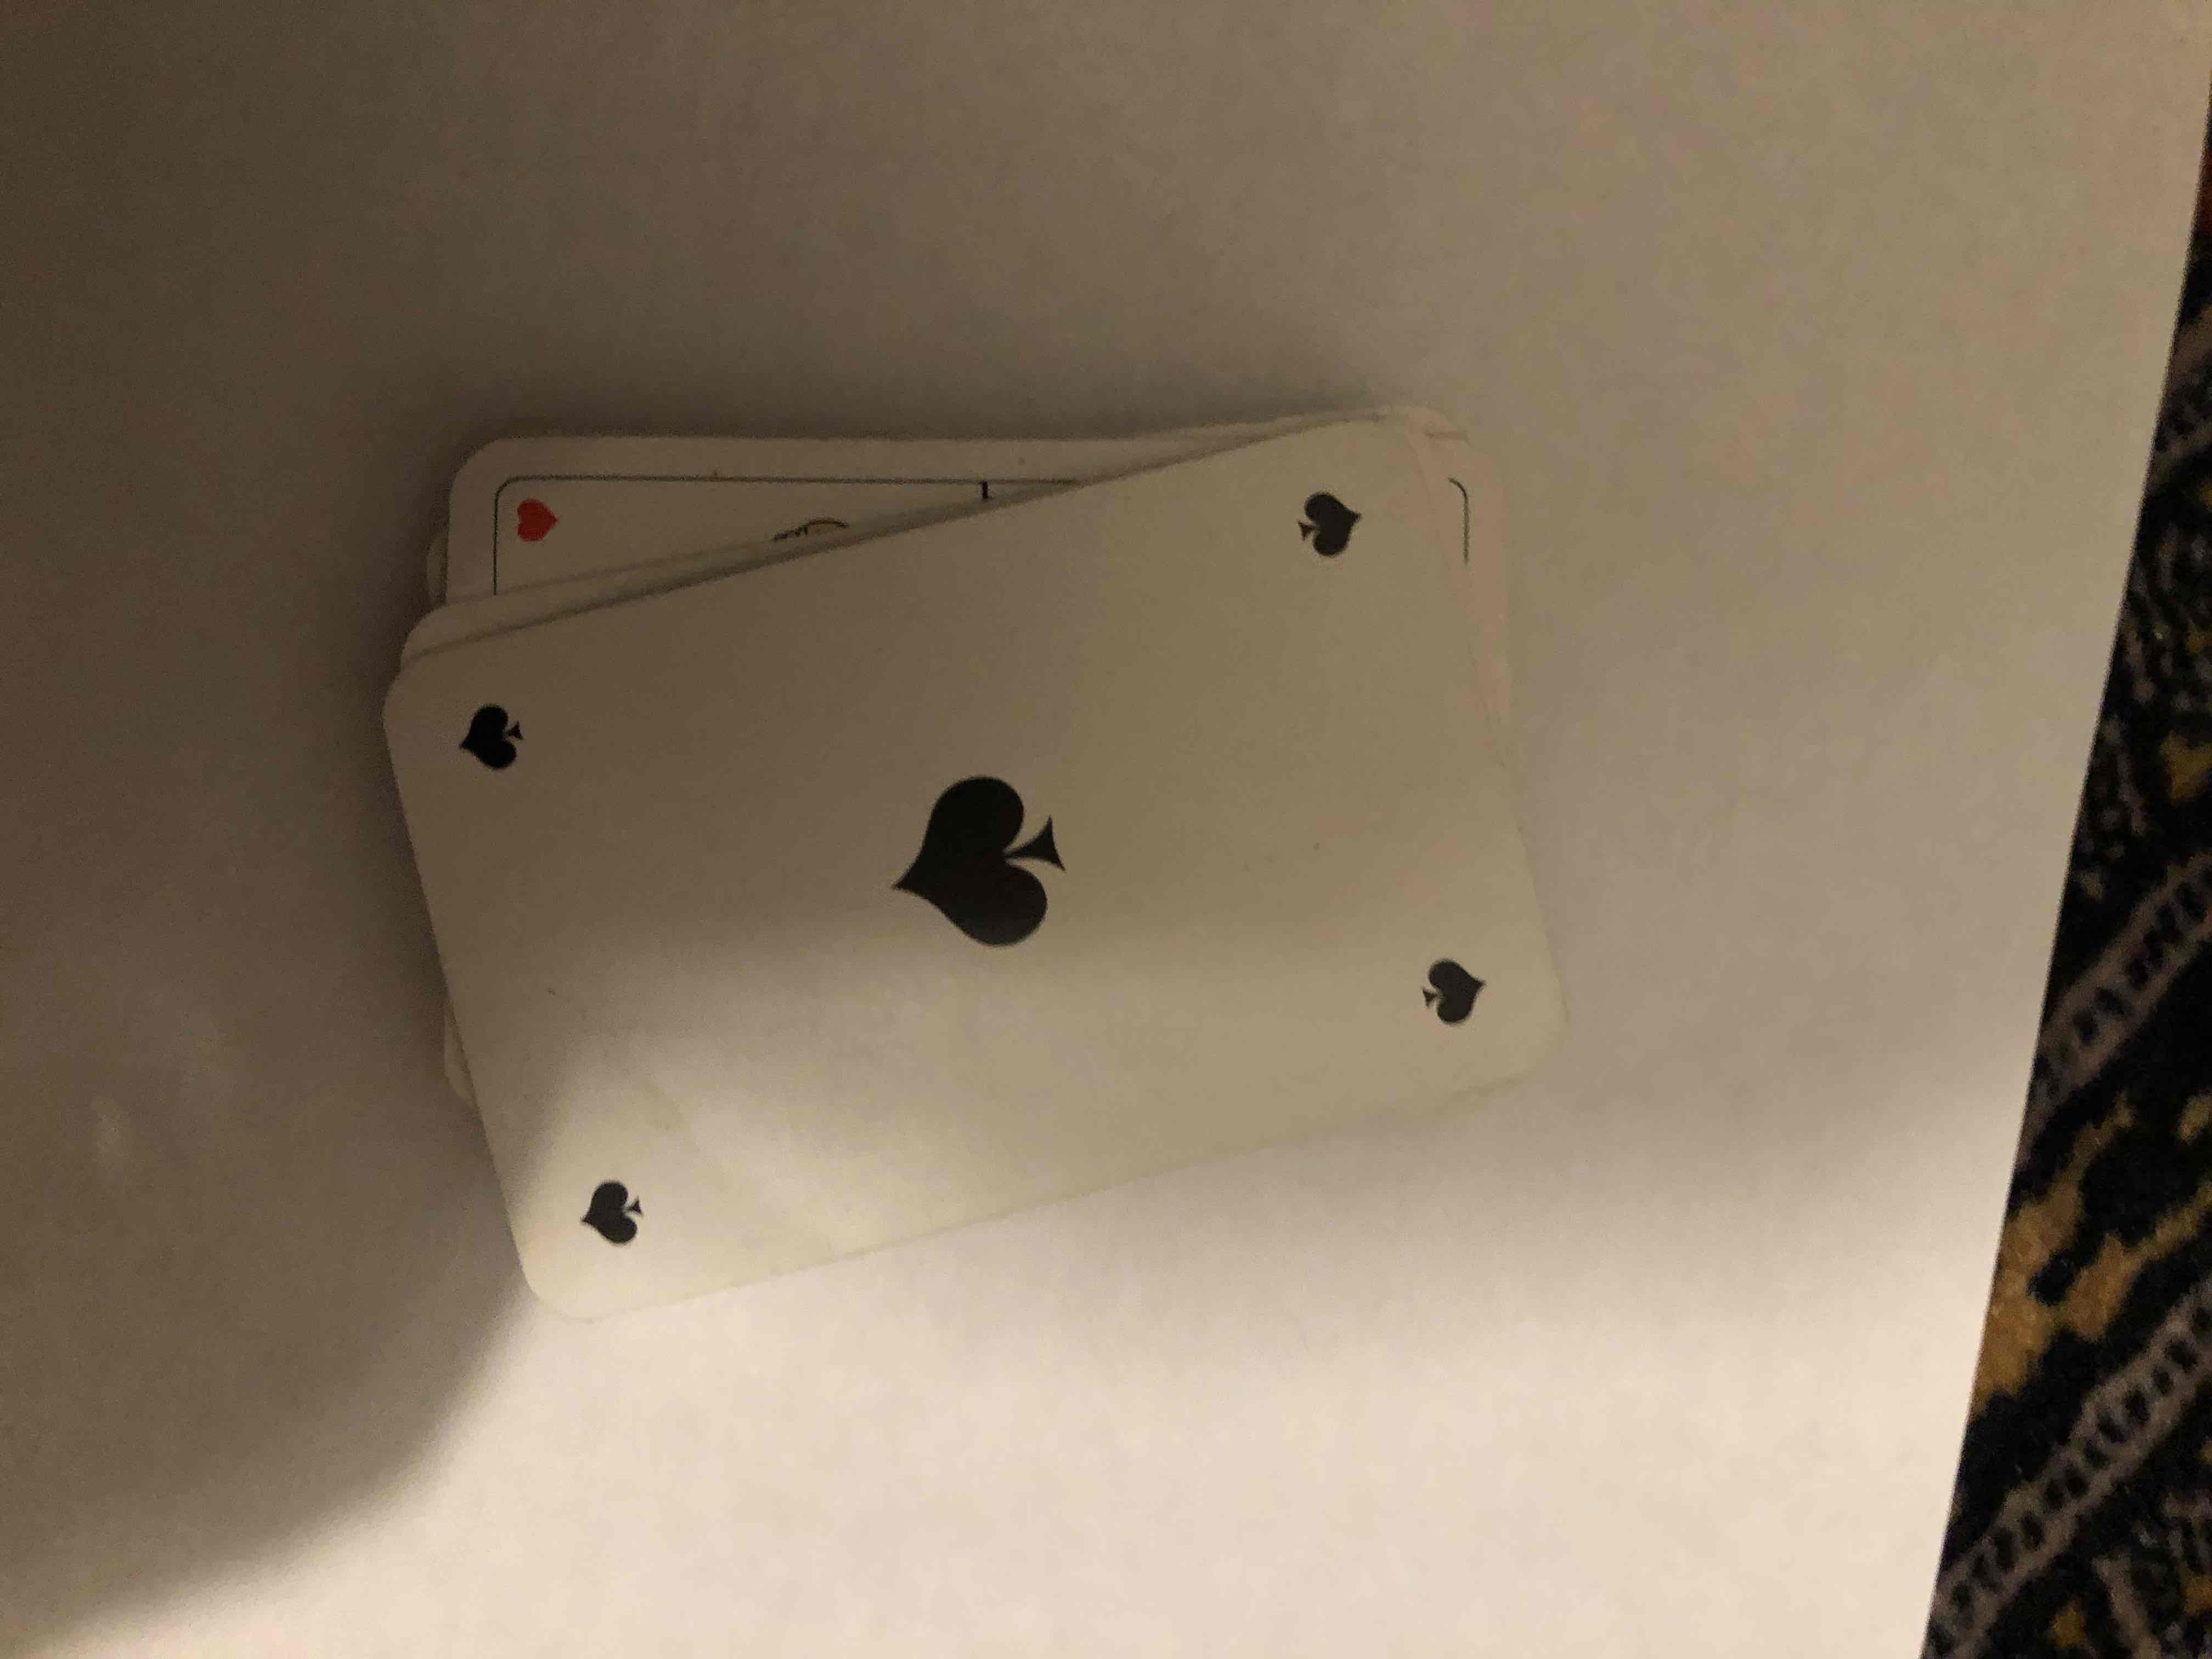spadesAce: (434, 523, 1583, 1333)
